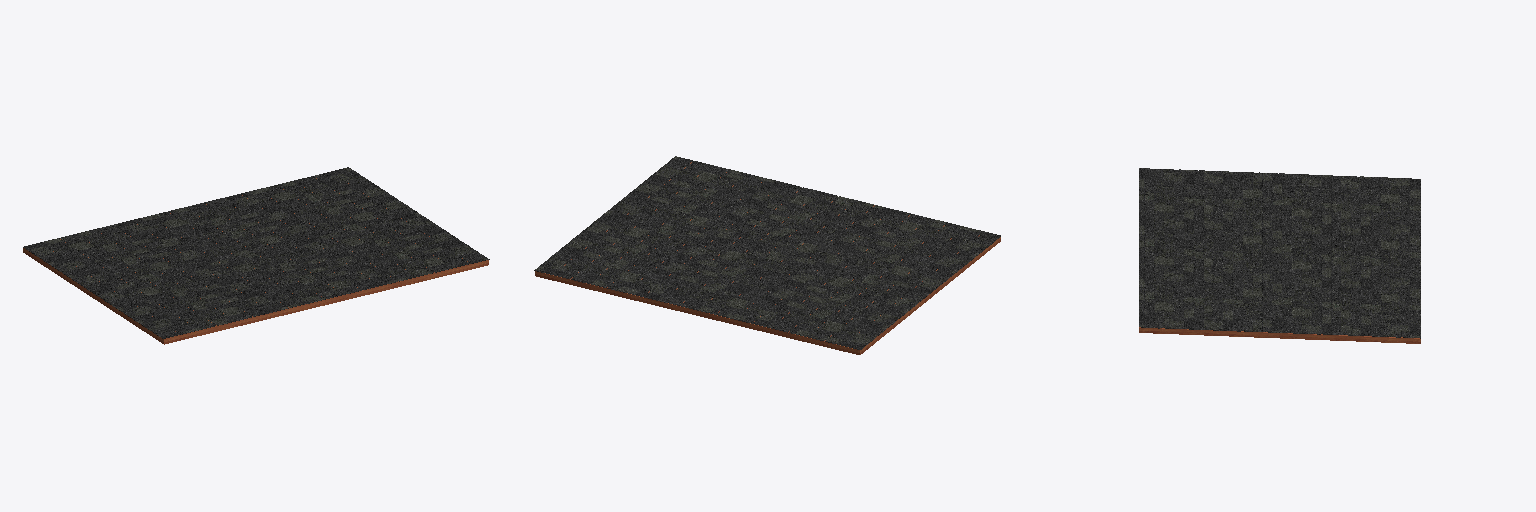
3 views of the same model, side by side, from view 1: azimuth 30°, elevation 25°; view 2: azimuth 150°, elevation 25°; view 3: azimuth 270°, elevation 25° (orthographic).
Parts seen in each view (by area): view 1: shingles, roof; view 2: shingles, roof; view 3: shingles, roof.
Boxes of the visible parts, x1=… form: shingles: x1=23, y1=167, x2=489, y2=338; roof: x1=23, y1=178, x2=488, y2=344; shingles: x1=534, y1=156, x2=1000, y2=349; roof: x1=535, y1=162, x2=1000, y2=354; shingles: x1=1139, y1=168, x2=1420, y2=338; roof: x1=1139, y1=327, x2=1420, y2=343.
Size of the model in its own units: 193 by 9.62 by 144.
2 materials, 2 textured.